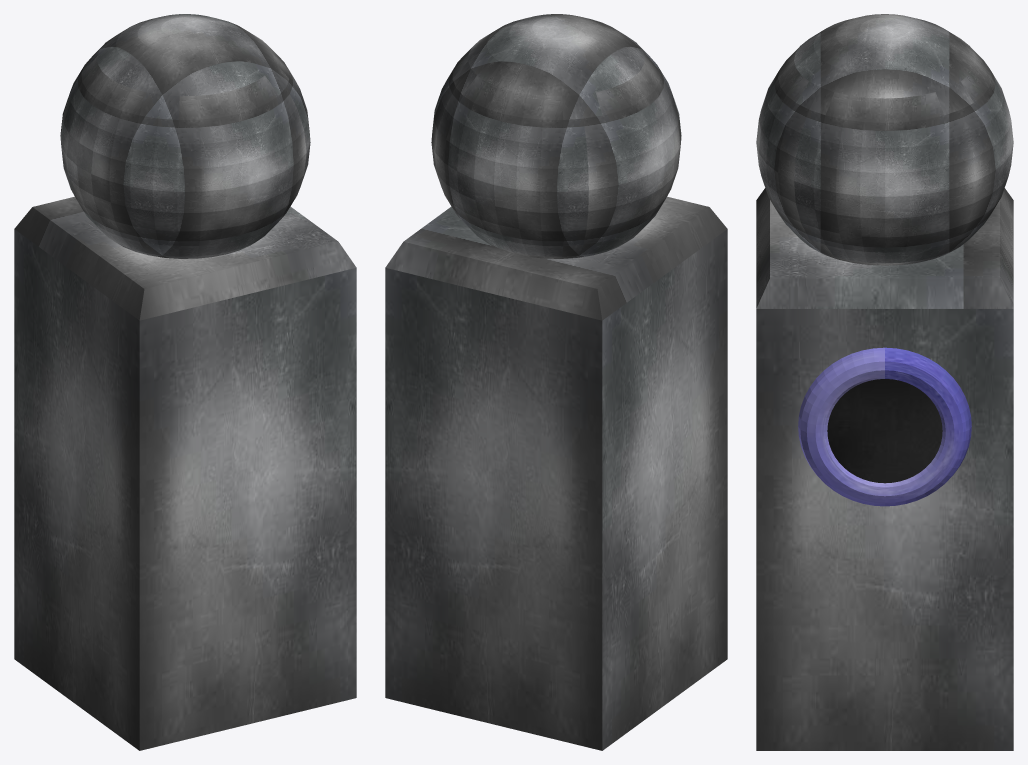
The model's file is playerWithMore.obj.
3 views of the same model, side by side, from view 1: azimuth 30°, elevation 25°; view 2: azimuth 150°, elevation 25°; view 3: azimuth 270°, elevation 25° (orthographic). The views are drawn at different scales.
Parts seen in each view (by area): view 1: Cube, Sphere; view 2: Cube, Sphere; view 3: Cube, Sphere, Torus, Cylinder.
Part boxes in pixels (<box>): Cube: <box>14,196,356,750</box>; Sphere: <box>60,14,310,258</box>; Cube: <box>385,196,727,750</box>; Sphere: <box>431,14,681,258</box>; Cube: <box>756,188,1013,750</box>; Sphere: <box>756,14,1013,265</box>; Torus: <box>798,347,971,506</box>; Cylinder: <box>827,379,942,483</box>.
Size of the model in its own units: 2.12 by 5.75 by 2.
3 materials, 3 textured.
